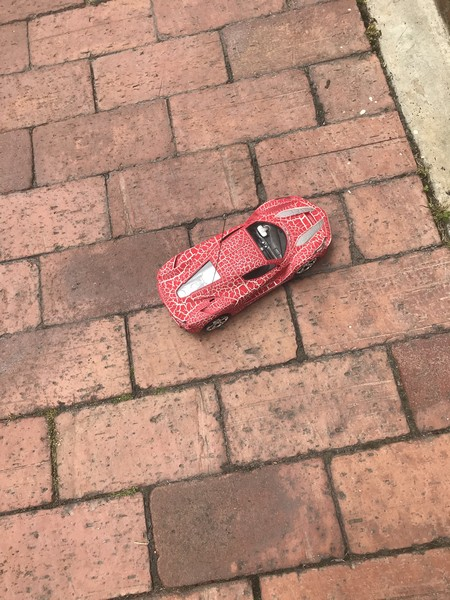RC: (153, 195, 335, 337)
